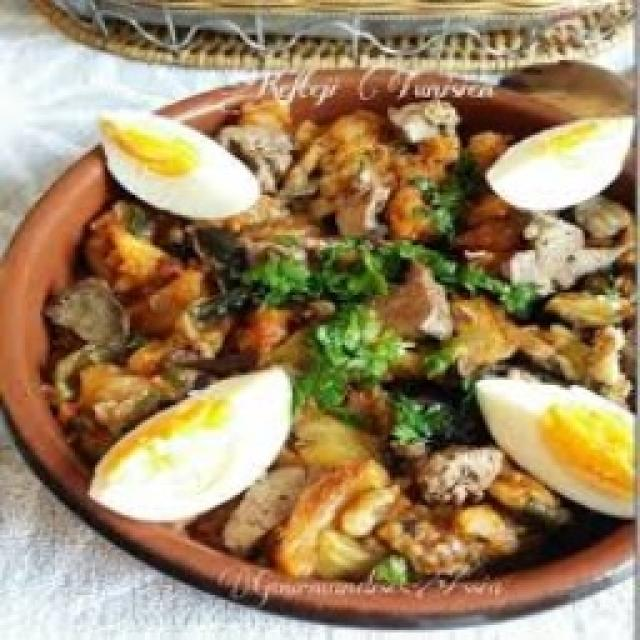Kafteji: (42, 88, 635, 587)
